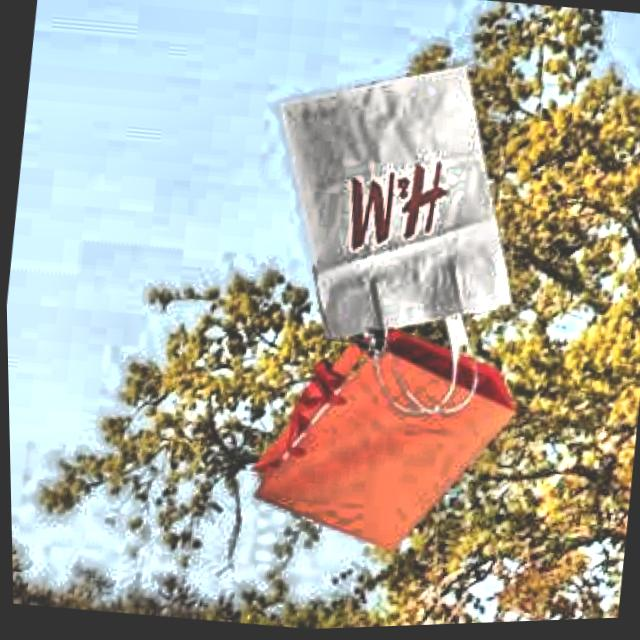Paper-bag: (234, 36, 542, 440), (221, 301, 532, 590)
